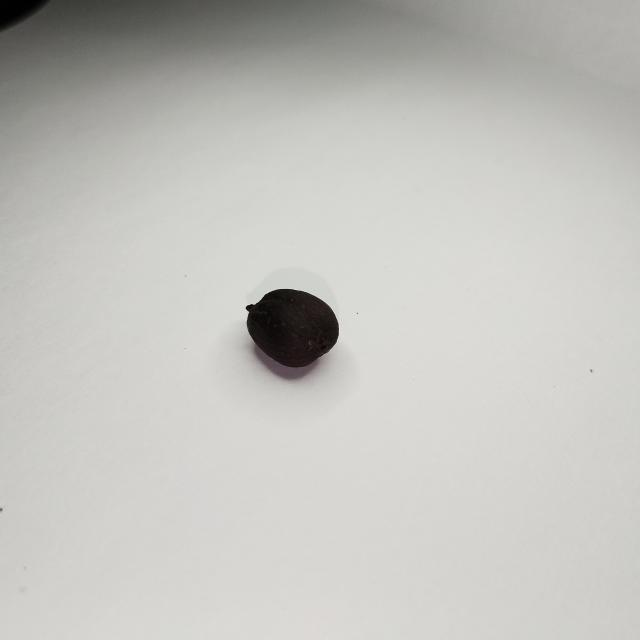Danado: (246, 290, 339, 367)
